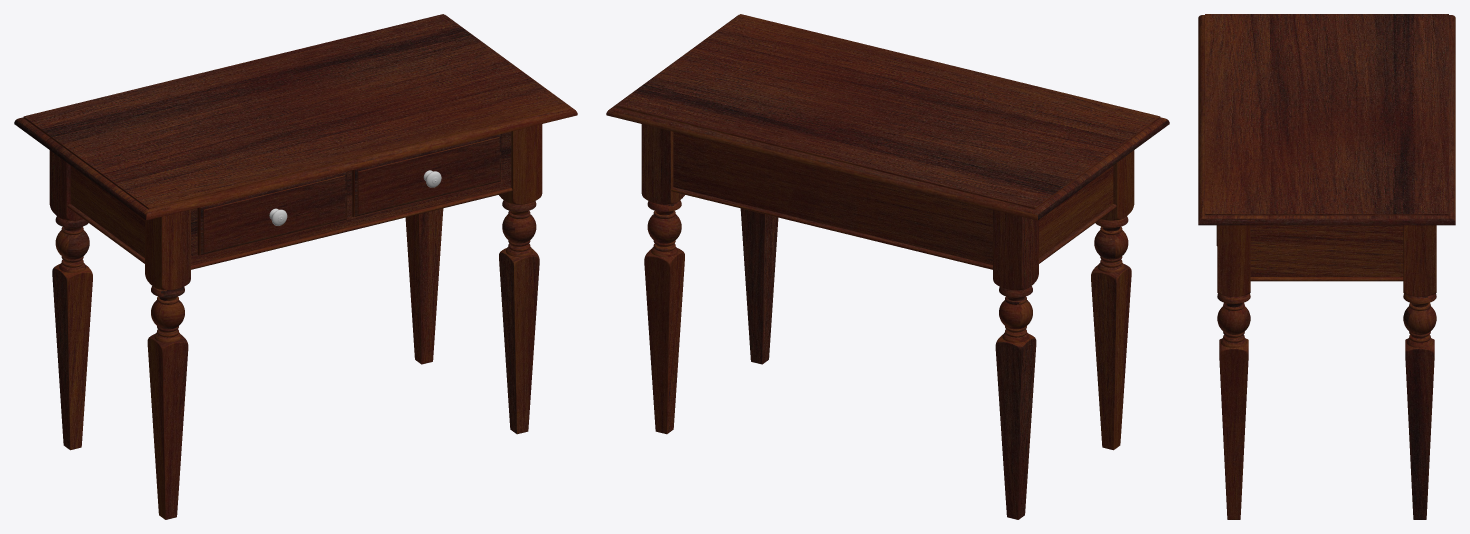
The model's file is Side_Table_2_Drawers.fbx.
The picture shows the model from 3 angles, left to right: view 1: azimuth 30°, elevation 25°; view 2: azimuth 150°, elevation 25°; view 3: azimuth 270°, elevation 25°; orthographic projection. The views are drawn at different scales.
Parts seen in each view (by area): view 1: Side_Table, Drawer, Drawer.001, DrawerHolder; view 2: Side_Table; view 3: Side_Table.
Part boxes in pixels (x1,y1,x2,y2): Side_Table: (14,14,577,519); Drawer: (197,171,346,255); Drawer.001: (352,134,500,217); DrawerHolder: (191,131,511,265); Side_Table: (606,14,1169,519); Side_Table: (1198,14,1455,519).
Size of the model in its own units: 0.51 by 0.37 by 0.27.
